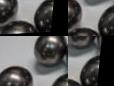ironball: (34, 35, 68, 68), (0, 63, 35, 86), (33, 0, 53, 34), (79, 54, 100, 86), (0, 20, 36, 35), (68, 36, 95, 55), (98, 3, 113, 37), (0, 0, 20, 25), (68, 0, 83, 28), (69, 26, 100, 37)
